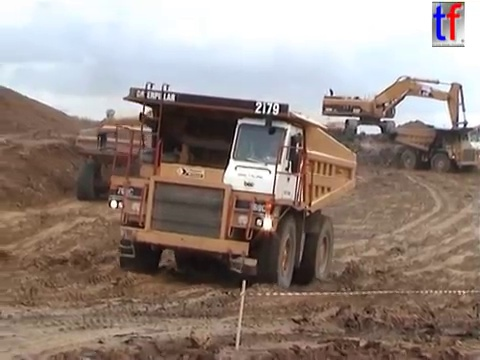excavator: (319, 74, 472, 151)
truck: (94, 79, 359, 291), (73, 121, 177, 202), (385, 122, 479, 175), (288, 119, 349, 147)
